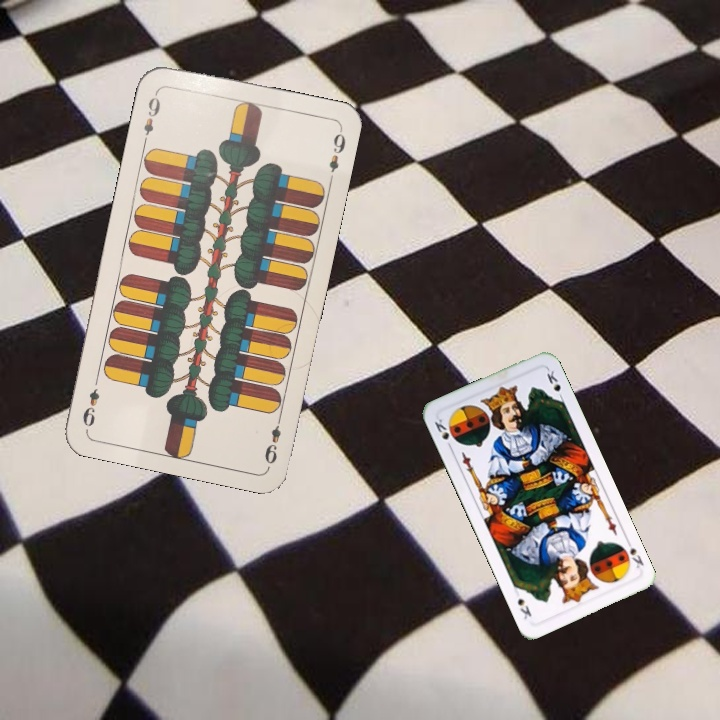E9: (139, 87, 163, 146), (261, 410, 285, 467)
SK: (430, 415, 455, 453), (622, 535, 647, 571)
